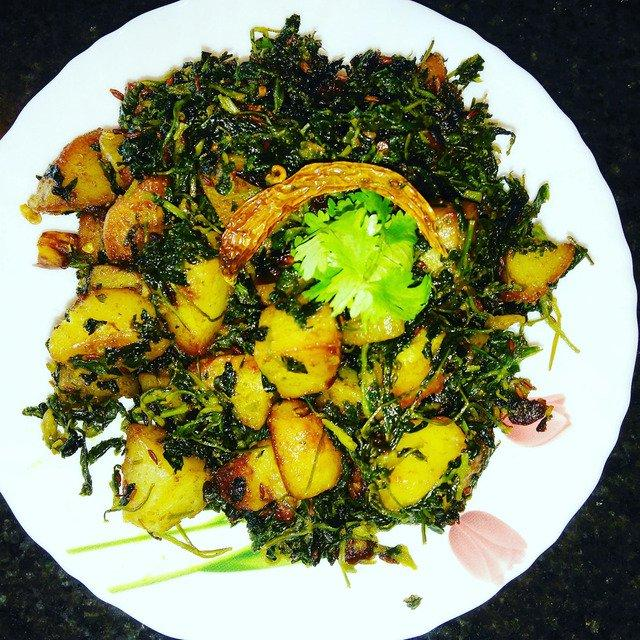Aloo Methi: (46, 13, 576, 559)
